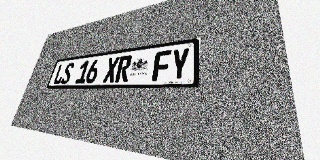1: (75, 60, 91, 84)
6: (85, 59, 101, 83)
F: (152, 50, 172, 81)
L: (52, 63, 67, 84)
R: (115, 55, 133, 82)
S: (60, 62, 75, 84)
X: (102, 56, 120, 83)
Y: (169, 47, 190, 81)
